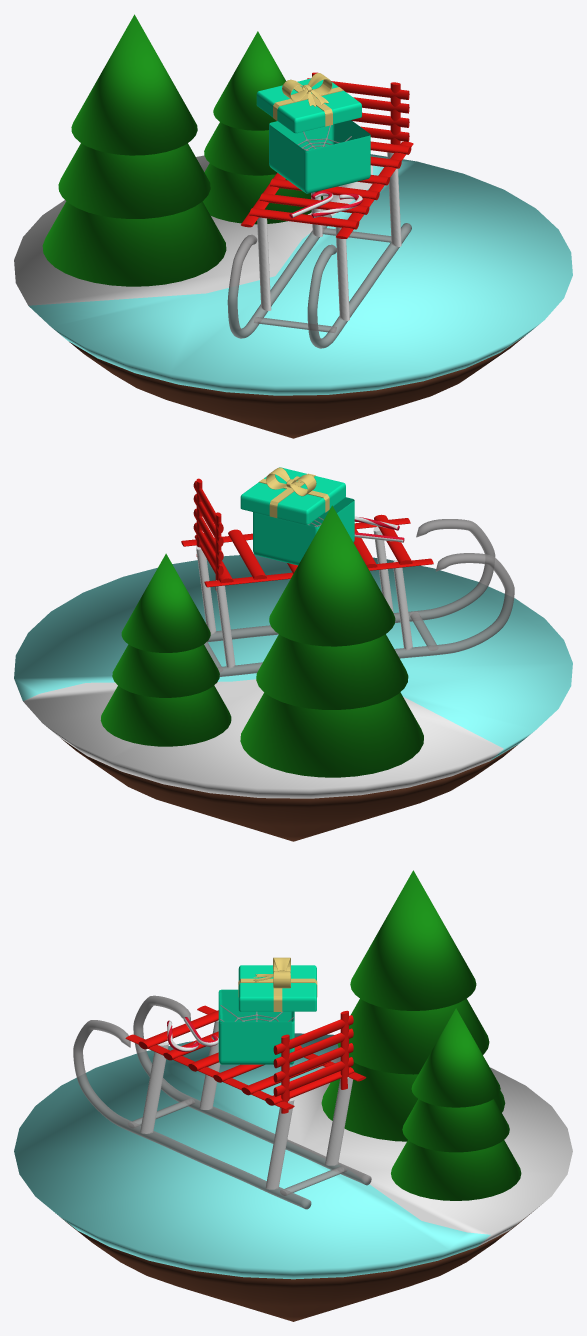
The model's file is XRmasNoSnow.glb.
3 renders of one model, top to bottom at view 1: azimuth 30°, elevation 25°; view 2: azimuth 150°, elevation 25°; view 3: azimuth 270°, elevation 25°, orthographic.
Visible parts, largest first — view 1: Circle002, Cone002, Cone, Circle002_1, ground, Cone001, box2, Cone006, Cone005, boxTop, Cone004, BézierCurve001 (+10 smaller); view 2: Circle002, Circle002_1, Cone002, Cone, ground, Cone001, Cone005, Cone006, Cone004, box2, BézierCurve, boxTop (+9 smaller); view 3: Circle002, Circle002_1, Cone, ground, Cone001, Cone005, Cone006, Cone002, Cone004, box2, BézierCurve001, BézierCurve (+13 smaller).
Boxes of the visible parts, x1,y1,x2,y2 form: Circle002: [28, 154, 572, 395]; Cone002: [42, 201, 226, 286]; Cone: [71, 14, 197, 155]; Circle002_1: [14, 155, 372, 305]; ground: [69, 335, 525, 438]; Cone001: [58, 143, 210, 218]; box2: [269, 120, 370, 193]; Cone006: [213, 31, 285, 130]; Cone005: [202, 163, 323, 224]; boxTop: [256, 78, 361, 133]; Cone004: [204, 122, 276, 175]; BézierCurve001: [307, 223, 411, 348]; Circle002: [14, 554, 572, 760]; Circle002_1: [23, 679, 503, 798]; Cone002: [240, 692, 423, 777]; Cone: [269, 505, 395, 646]; ground: [61, 738, 517, 841]; Cone001: [256, 634, 408, 709]; Cone005: [100, 685, 231, 746]; Cone006: [121, 553, 210, 652]; Cone004: [112, 644, 219, 697]; box2: [253, 497, 354, 565]; BézierCurve: [217, 553, 514, 676]; boxTop: [240, 467, 345, 524]; Circle002: [14, 1033, 490, 1279]; Circle002_1: [287, 1046, 572, 1246]; Cone: [350, 870, 476, 1010]; ground: [55, 1213, 531, 1321]; Cone001: [337, 998, 489, 1074]; Cone005: [391, 1140, 521, 1200]; Cone006: [411, 1008, 500, 1107]; Cone002: [321, 1062, 505, 1141]; Cone004: [402, 1099, 509, 1152]; box2: [218, 989, 294, 1064]; BézierCurve001: [73, 1020, 311, 1209]; BézierCurve: [133, 995, 371, 1185].
Size of the model in its own units: 5.26 by 4.19 by 5.26.
